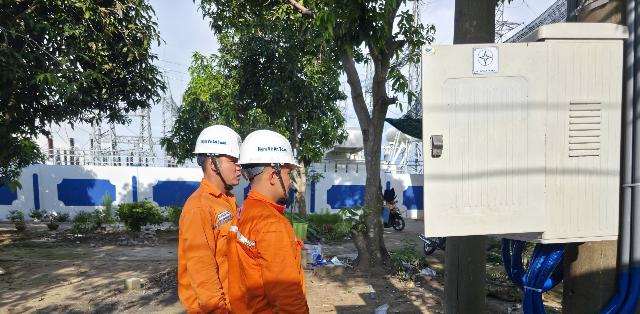helmet: (239, 125, 304, 173), (191, 115, 243, 164)
